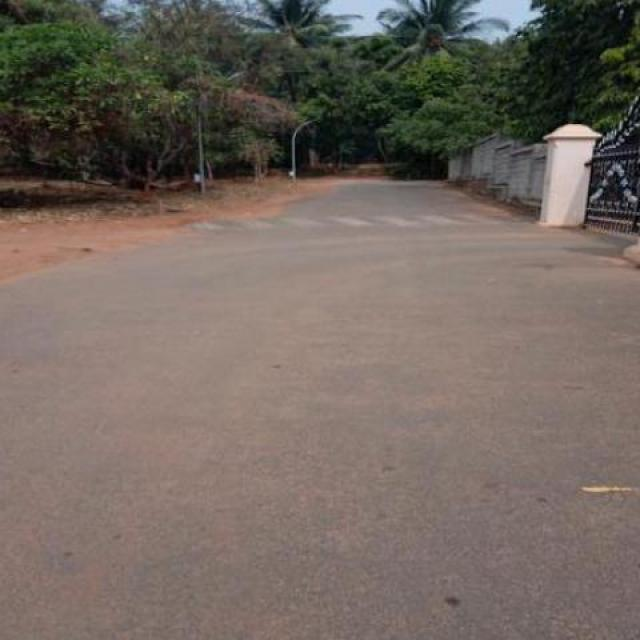Speed Bump: (182, 206, 533, 234)
